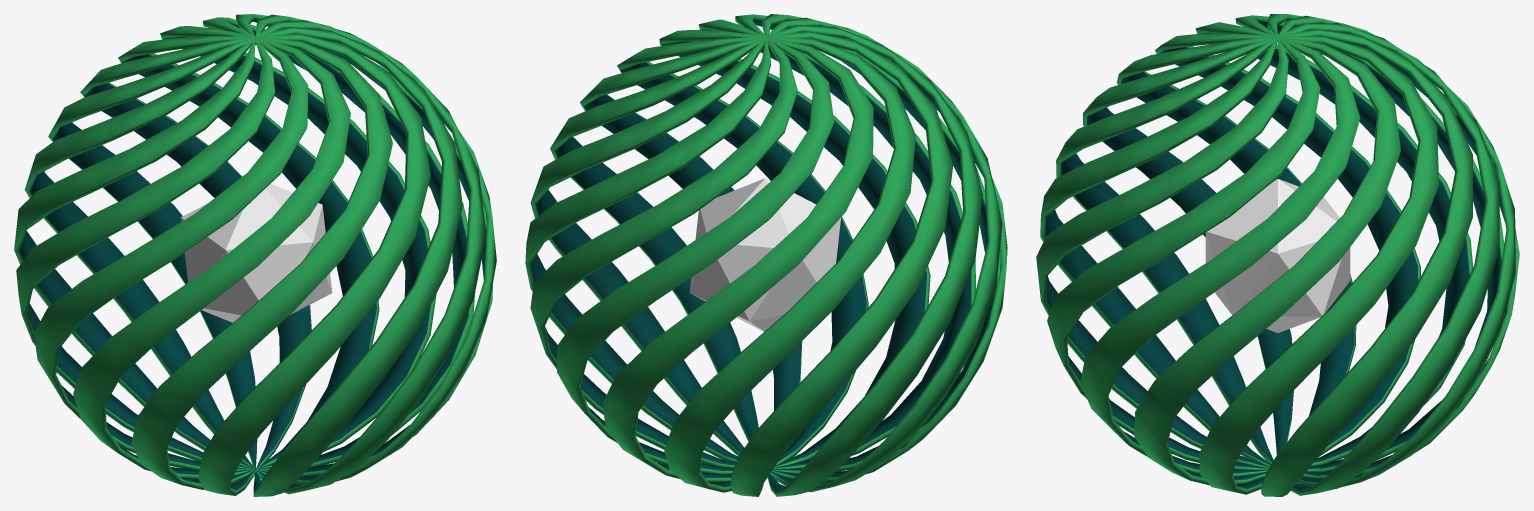
The model's file is CORE.fbx.
3 views of the same model, side by side, from view 1: azimuth 30°, elevation 25°; view 2: azimuth 150°, elevation 25°; view 3: azimuth 270°, elevation 25° (orthographic).
Parts seen in each view (by area): view 1: Sphere.004, Icosphere.011; view 2: Sphere.004, Icosphere.011; view 3: Sphere.004, Icosphere.011.
Part boxes in pixels (x1,y1,x2,y2): Sphere.004: (14, 14, 496, 496); Icosphere.011: (181, 183, 332, 322); Sphere.004: (525, 14, 1007, 496); Icosphere.011: (689, 178, 840, 331); Sphere.004: (1036, 14, 1519, 496); Icosphere.011: (1205, 179, 1350, 332).
Bounding box in the file's own units: 200 × 200 × 200.
